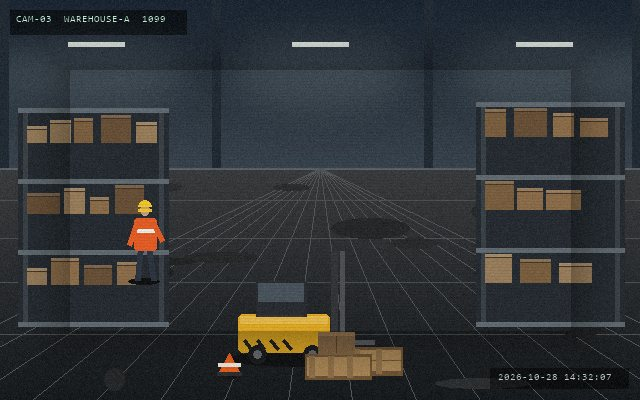cone: (216, 351, 242, 378)
forklift: (234, 249, 376, 366)
pallet: (327, 345, 404, 377), (303, 352, 373, 381)
person: (127, 199, 163, 283)
shelf: (476, 102, 624, 322), (18, 108, 168, 322)
